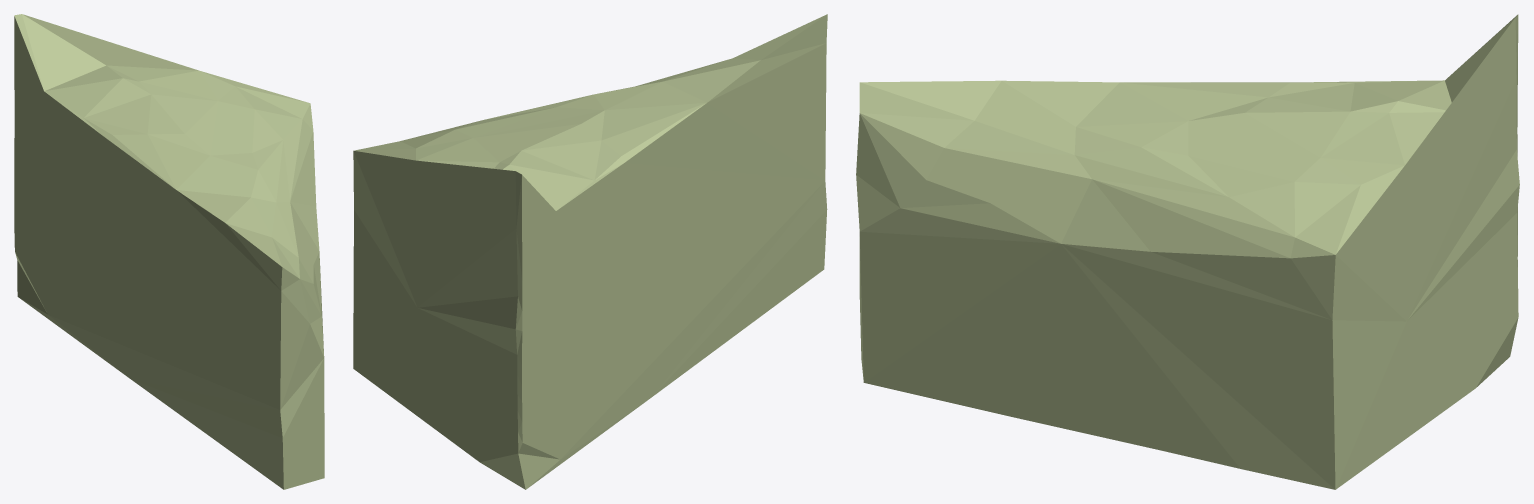
Rendered from hill_13.gltf.
3 renders of one model, left to right at view 1: azimuth 30°, elevation 25°; view 2: azimuth 150°, elevation 25°; view 3: azimuth 270°, elevation 25°, orthographic. The views are drawn at different scales.
Visible parts, largest first — view 1: hill; view 2: hill; view 3: hill.
Part boxes in pixels (x1,y1,x2,y2): hill: [14, 14, 324, 489]; hill: [353, 14, 827, 489]; hill: [856, 14, 1519, 489].
Size of the model in its own units: 2.43 by 2.92 by 5.1.
